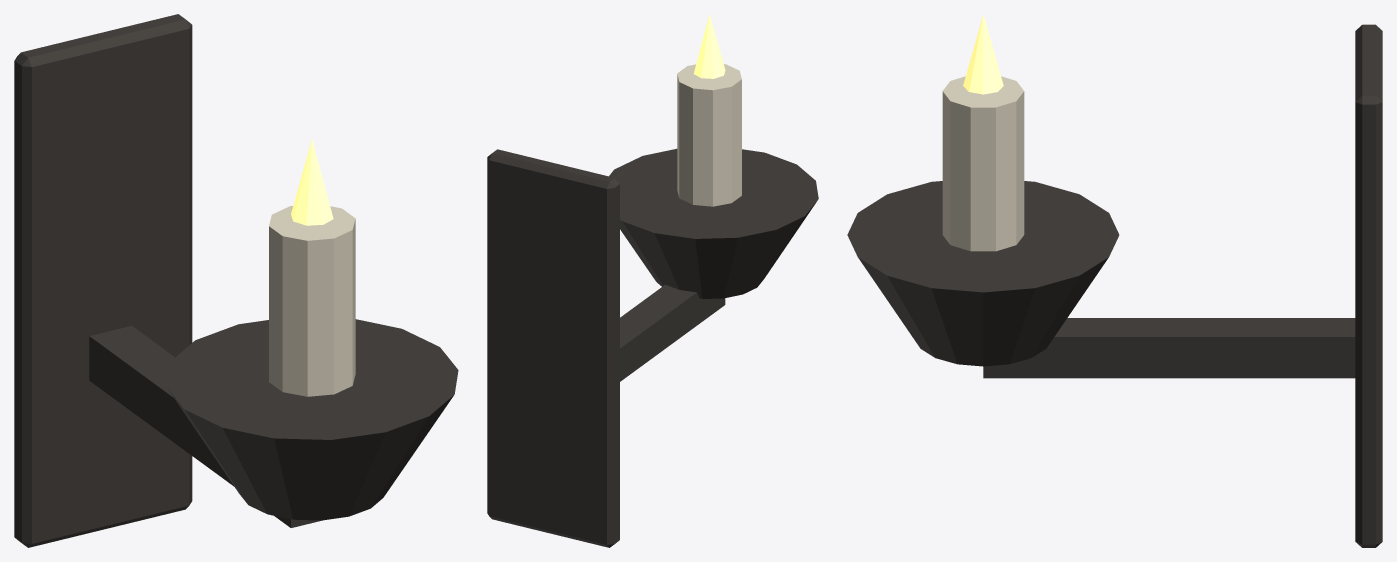
File: sconce.glb
3 renders of one model, left to right at view 1: azimuth 30°, elevation 25°; view 2: azimuth 150°, elevation 25°; view 3: azimuth 270°, elevation 25°, orthographic. The views are drawn at different scales.
Parts seen in each view (by area): view 1: Cube, Cone, Cylinder, Cube.001, Cone.001; view 2: Cube, Cone, Cylinder, Cube.001, Cone.001; view 3: Cone, Cube.001, Cube, Cylinder, Cone.001.
Boxes of the visible parts, <box> form: Cube: <box>14,14,192,547</box>; Cone: <box>166,319,458,520</box>; Cylinder: <box>269,206,355,396</box>; Cube.001: <box>89,326,322,527</box>; Cone.001: <box>291,139,333,225</box>; Cube: <box>487,149,619,547</box>; Cone: <box>609,148,818,298</box>; Cylinder: <box>677,64,741,206</box>; Cube.001: <box>620,284,725,381</box>; Cone.001: <box>693,14,725,78</box>; Cone: <box>847,181,1119,366</box>; Cube.001: <box>983,318,1355,378</box>; Cube: <box>1355,24,1382,547</box>; Cylinder: <box>942,76,1024,251</box>; Cone.001: <box>963,14,1003,94</box>.
Bounding box in the file's own units: 0.12 × 0.2425 × 0.236.
